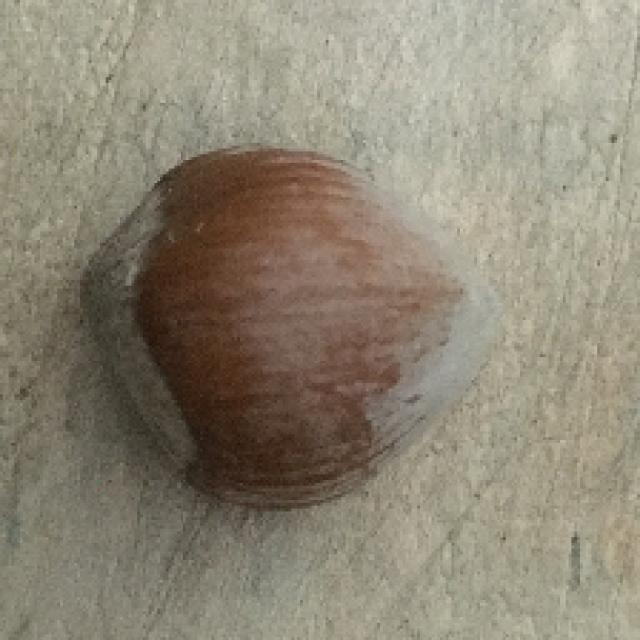qualityHazelnut: (89, 138, 515, 512)
